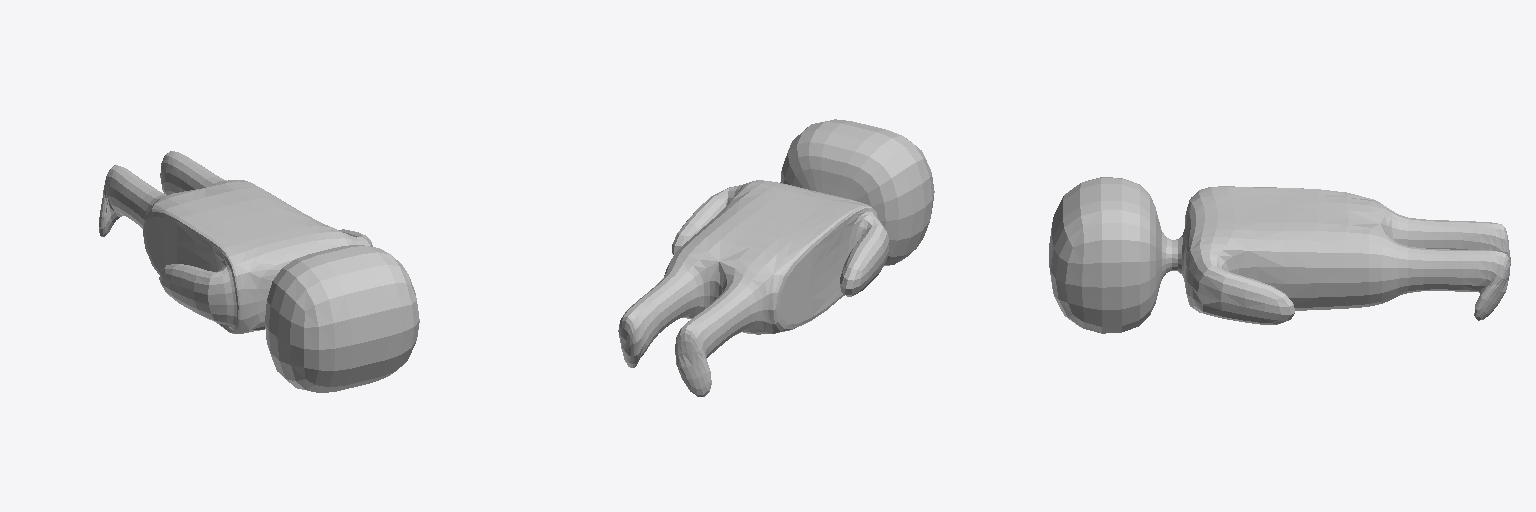
File: antman_stand_5.obj
The picture shows the model from 3 angles: view 1: azimuth 30°, elevation 25°; view 2: azimuth 150°, elevation 25°; view 3: azimuth 270°, elevation 25°; orthographic projection.
Parts seen in each view (by area): view 1: Cube; view 2: Cube; view 3: Cube.
Part boxes in pixels (bbox=[...]): Cube: bbox=[99, 151, 419, 392]; Cube: bbox=[618, 119, 934, 396]; Cube: bbox=[1049, 177, 1510, 333].
Bounding box in the file's own units: 0.9024 × 0.5834 × 1.93.